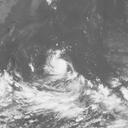cyclone: (43, 50, 90, 107)
